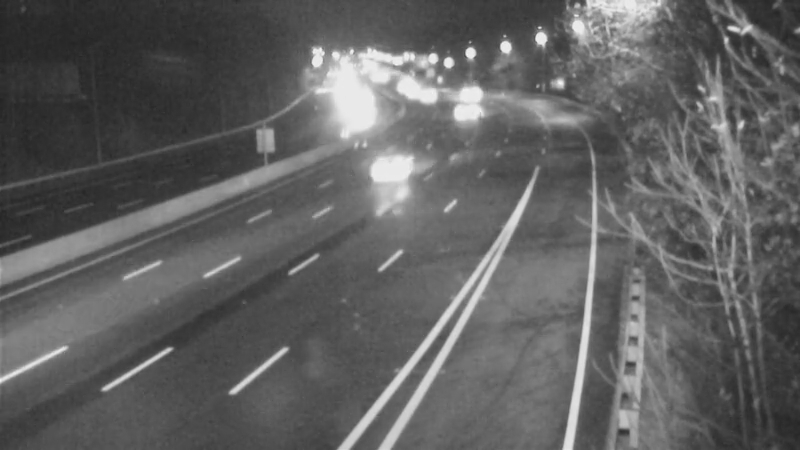vehicle: (353, 131, 433, 211), (378, 62, 428, 112), (391, 67, 441, 117), (406, 72, 456, 122), (443, 71, 493, 121), (434, 91, 484, 141), (324, 81, 374, 131)
